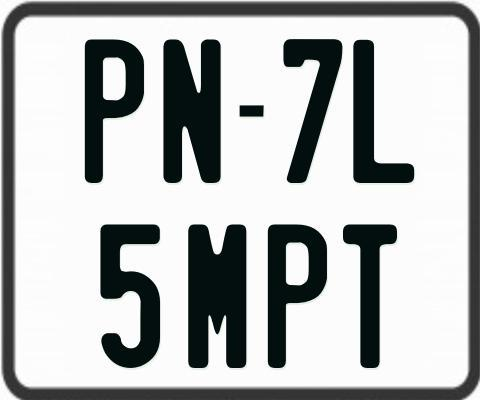5: (98, 222, 161, 371)
7: (283, 38, 343, 186)
L: (352, 40, 413, 184)
M: (187, 222, 247, 365)
N: (162, 39, 225, 184)
P: (85, 39, 148, 183), (268, 222, 327, 370)
T: (342, 225, 398, 371)
